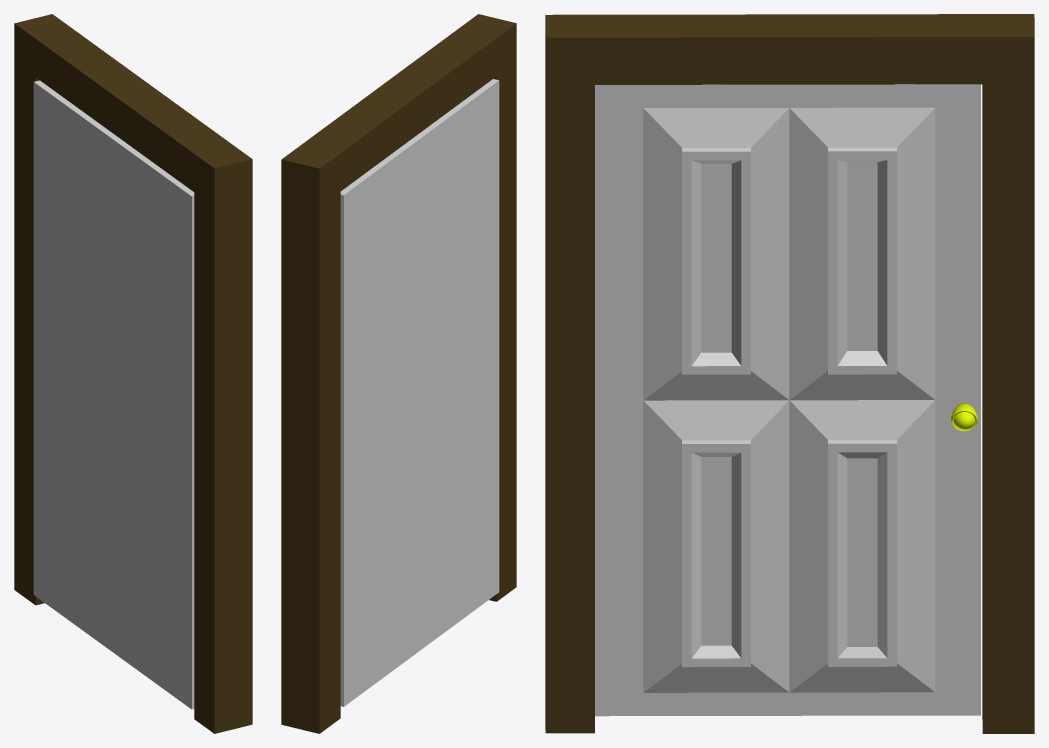
The model's file is door04.gltf.
The picture shows the model from 3 angles, left to right: view 1: azimuth 30°, elevation 25°; view 2: azimuth 150°, elevation 25°; view 3: azimuth 270°, elevation 25°; orthographic projection. The views are drawn at different scales.
Parts seen in each view (by area): view 1: Door_188; view 2: Door_188; view 3: Door_188.
Part boxes in pixels (box(x1,y1,x2,y2)): Door_188: box(14, 14, 252, 733); Door_188: box(281, 14, 516, 733); Door_188: box(545, 14, 1034, 733).
Bounding box in the file's own units: 0.2032 × 1.82 × 1.16.
